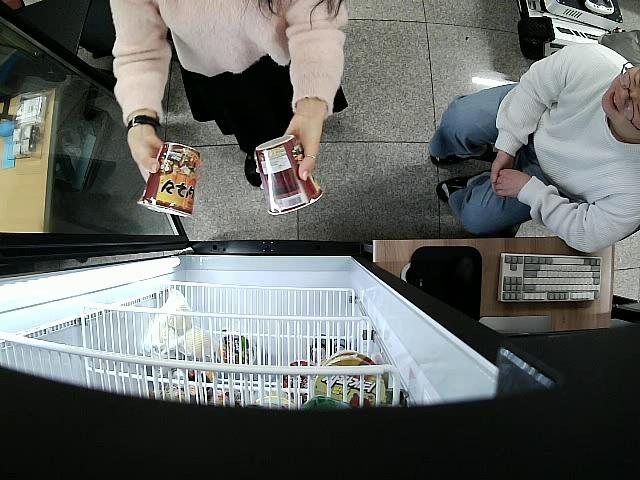00_hand: (256, 114, 321, 191), (126, 128, 165, 185)
06_nuguri_S: (254, 134, 324, 218), (137, 142, 201, 219)
